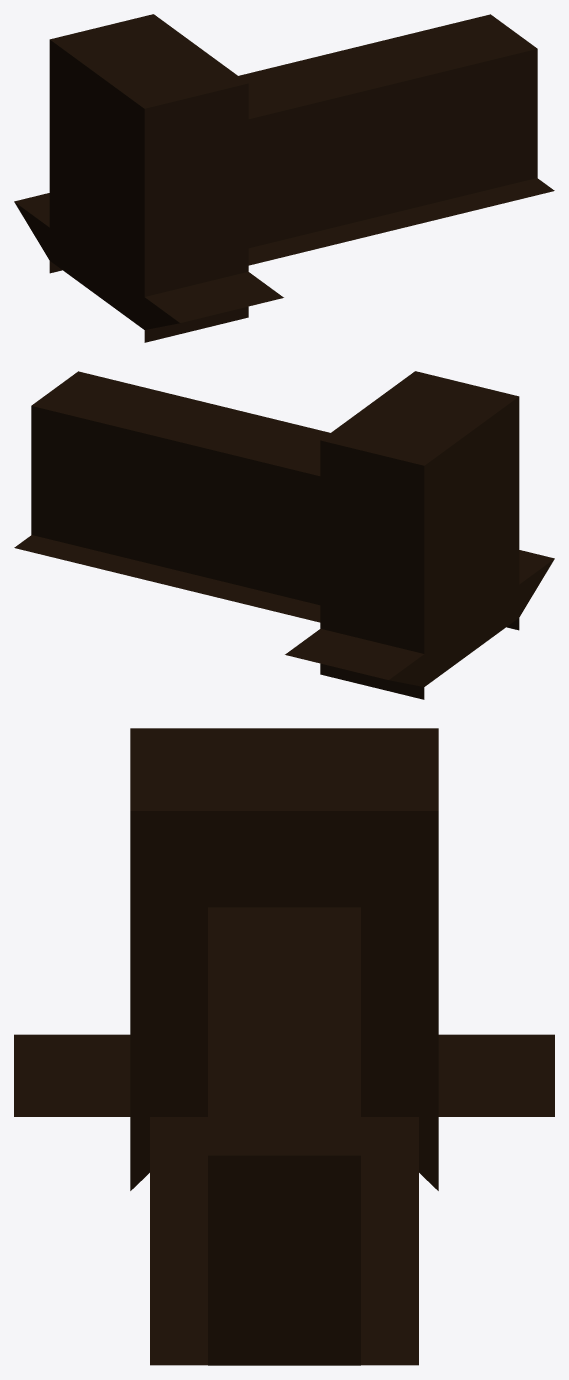
The model's file is Small room 2.fbx.
3 renders of one model, top to bottom at view 1: azimuth 30°, elevation 25°; view 2: azimuth 150°, elevation 25°; view 3: azimuth 270°, elevation 25°, orthographic. The views are drawn at different scales.
Visible parts, largest first — view 1: Cube.080; view 2: Cube.080; view 3: Cube.080.
Boxes of the visible parts, bbox=[...] form: Cube.080: bbox=[14, 14, 554, 342]; Cube.080: bbox=[14, 371, 554, 699]; Cube.080: bbox=[14, 728, 554, 1365].
Size of the model in its own units: 1099 by 589 by 759.
